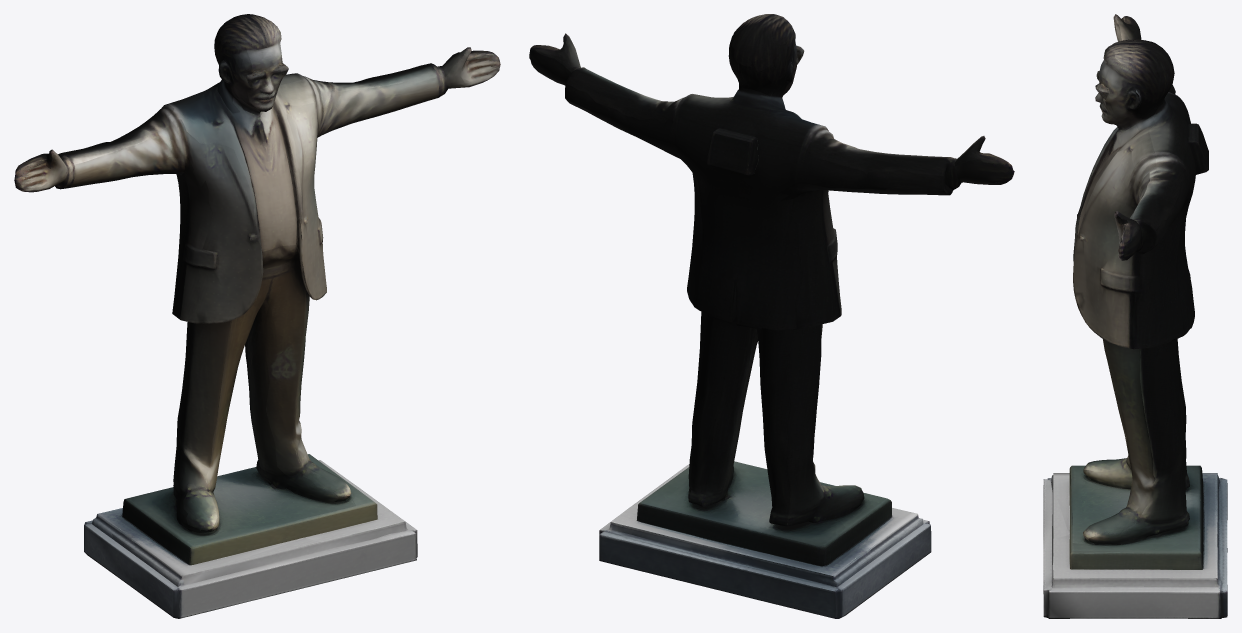
Rendered from Vardan Helix Statue.fbx.
3 renders of one model, left to right at view 1: azimuth 30°, elevation 25°; view 2: azimuth 150°, elevation 25°; view 3: azimuth 270°, elevation 25°, orthographic. The views are drawn at different scales.
Parts seen in each view (by area): view 1: node_6d73d8de_8b26_4b8d_9427_f65b2546cea6_mesh0; view 2: node_6d73d8de_8b26_4b8d_9427_f65b2546cea6_mesh0; view 3: node_6d73d8de_8b26_4b8d_9427_f65b2546cea6_mesh0.
Part boxes in pixels (x1,y1,x2,y2): node_6d73d8de_8b26_4b8d_9427_f65b2546cea6_mesh0: (14,14,500,618); node_6d73d8de_8b26_4b8d_9427_f65b2546cea6_mesh0: (529,14,1014,618); node_6d73d8de_8b26_4b8d_9427_f65b2546cea6_mesh0: (1043,14,1227,618).
Bounding box in the file's own units: 94.6 × 100 × 32.16.
1 material, 1 textured.
